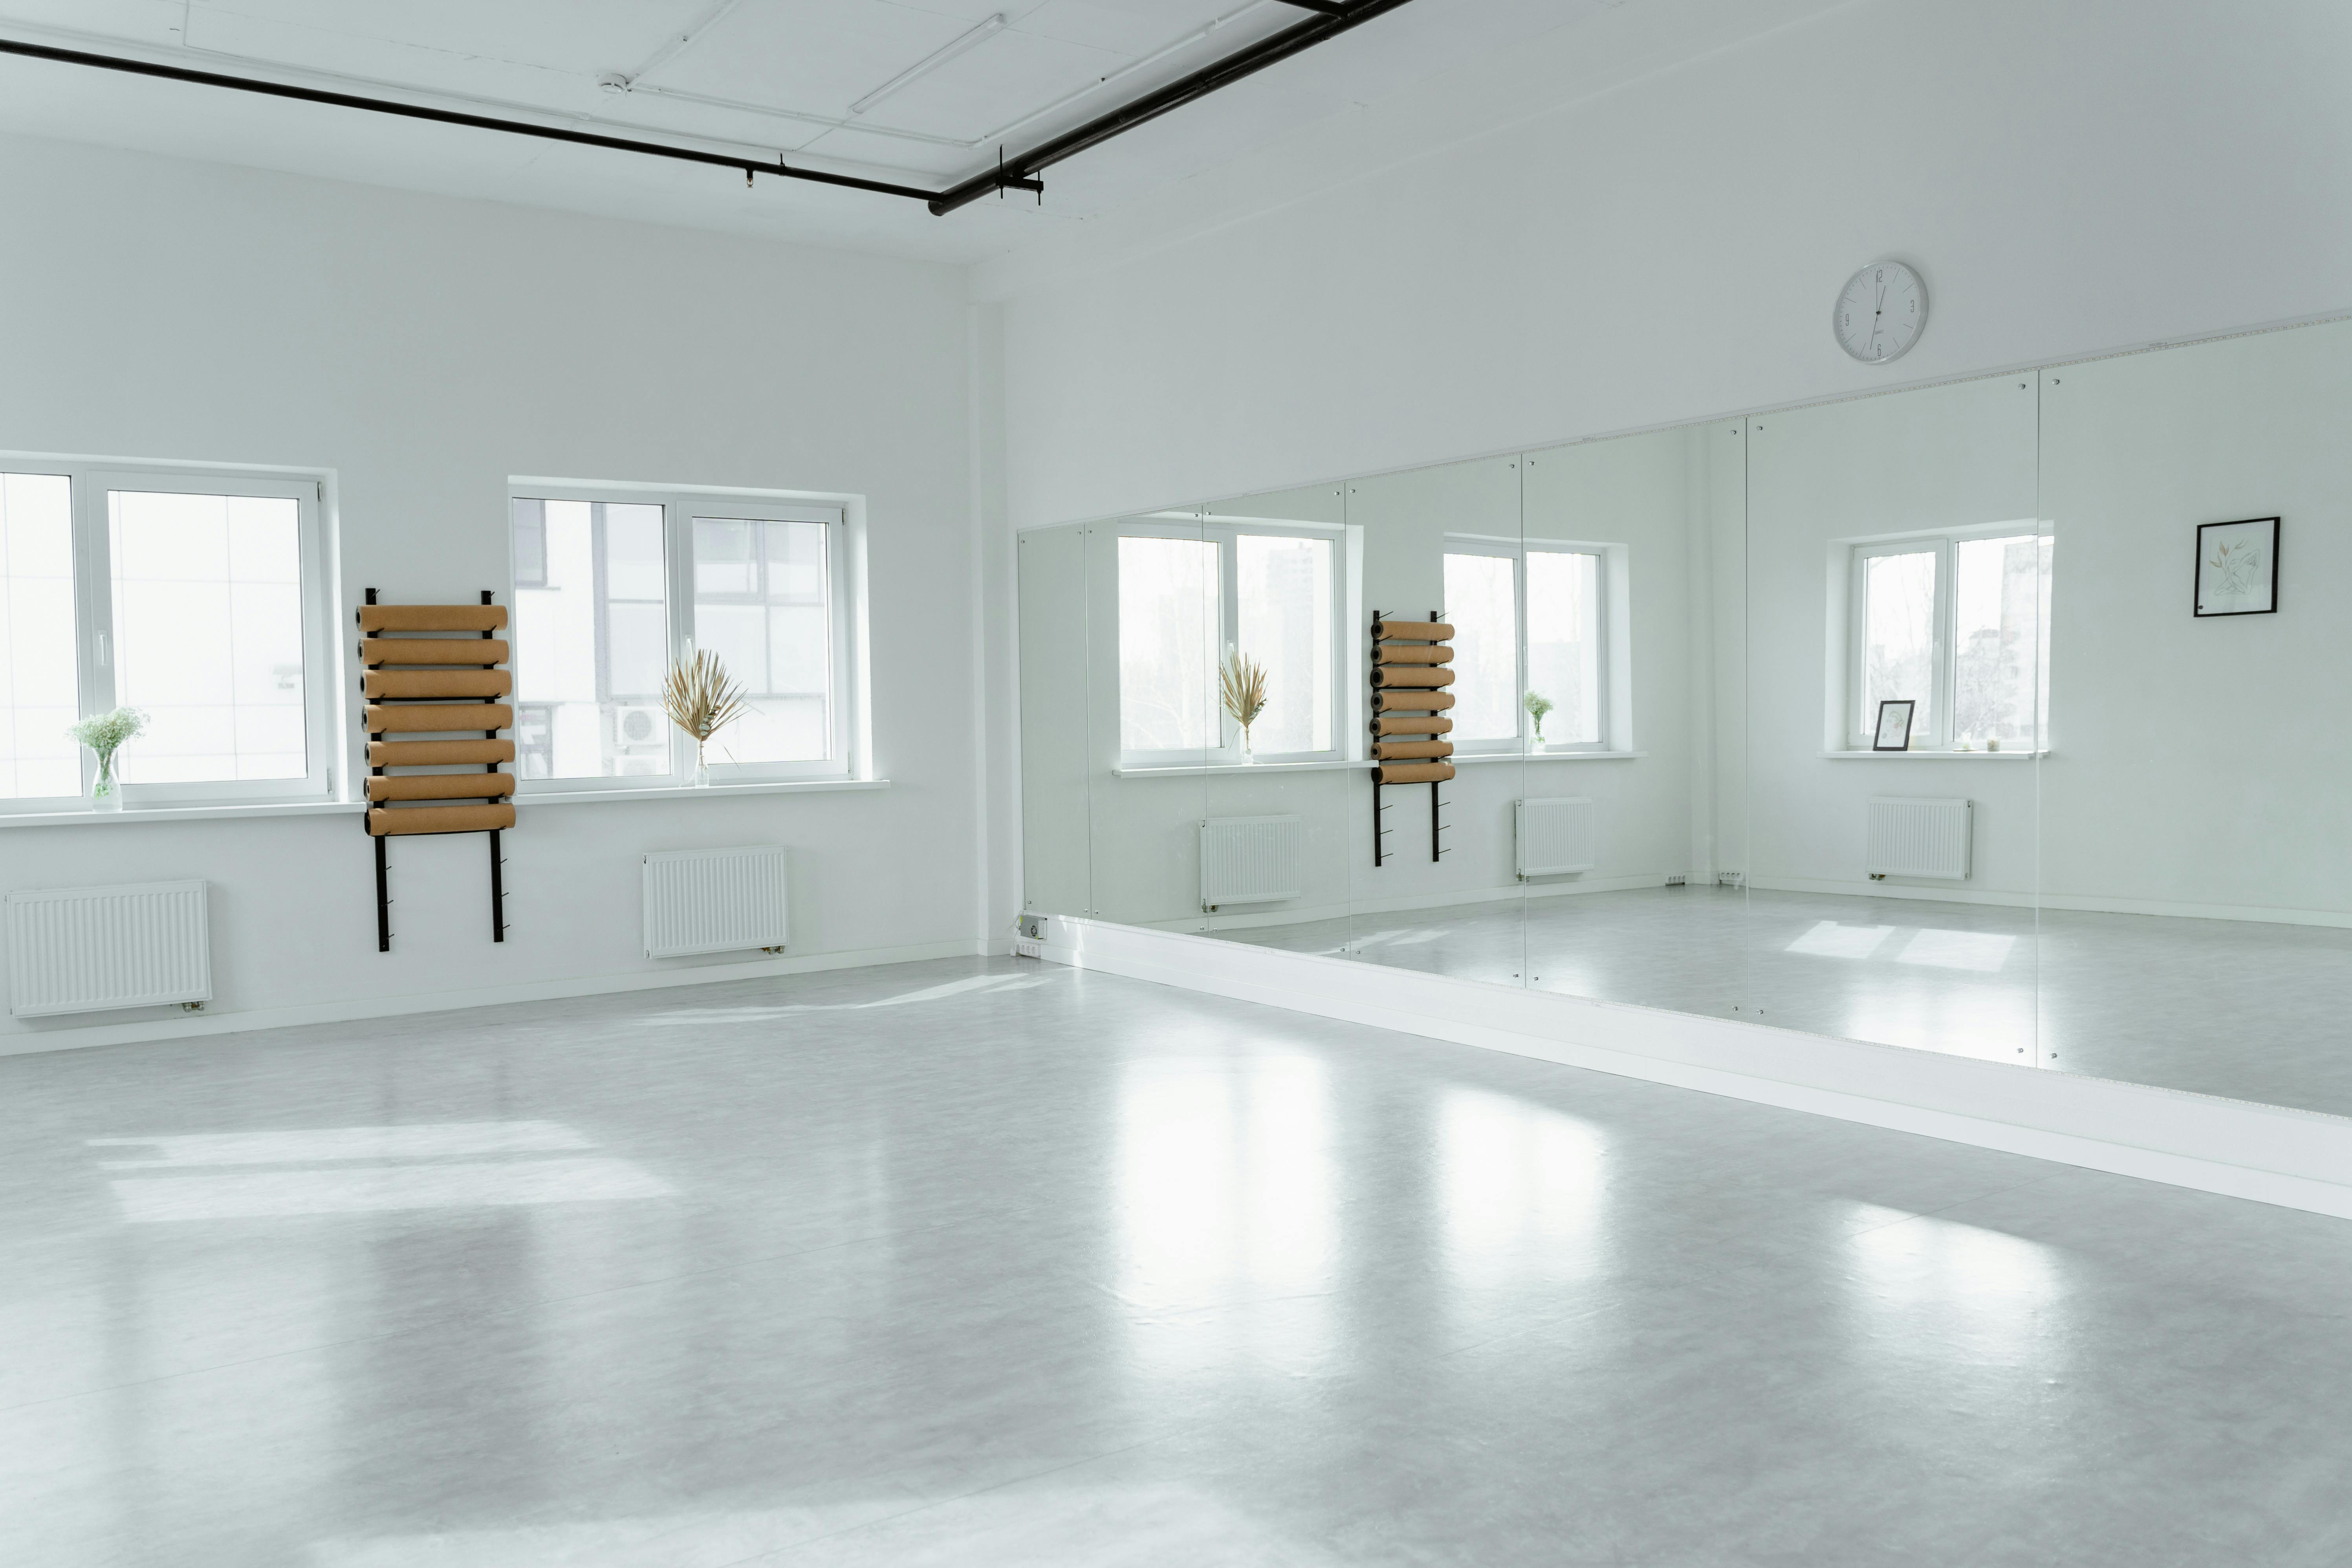clock: (1796, 224, 1969, 369)
